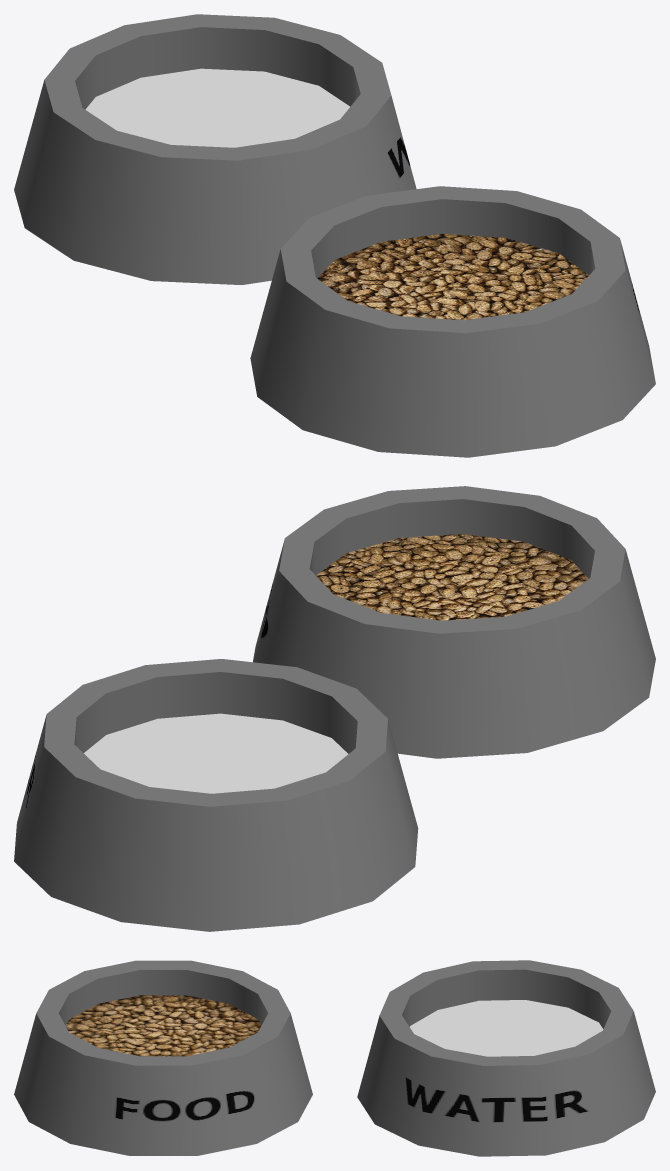
Rendered from bowlsCat.fbx.
The picture shows the model from 3 angles, top to bottom: view 1: azimuth 30°, elevation 25°; view 2: azimuth 150°, elevation 25°; view 3: azimuth 270°, elevation 25°; orthographic projection. The views are drawn at different scales.
Visible parts, largest first — view 1: Bowls; view 2: Bowls; view 3: Bowls.
Boxes of the visible parts, bbox=[...] form: Bowls: bbox=[14, 14, 655, 457]; Bowls: bbox=[14, 486, 655, 931]; Bowls: bbox=[14, 960, 655, 1156].
Bounding box in the file's own units: 125 × 38.28 × 274.
Materials: 2 (1 with a texture image).
